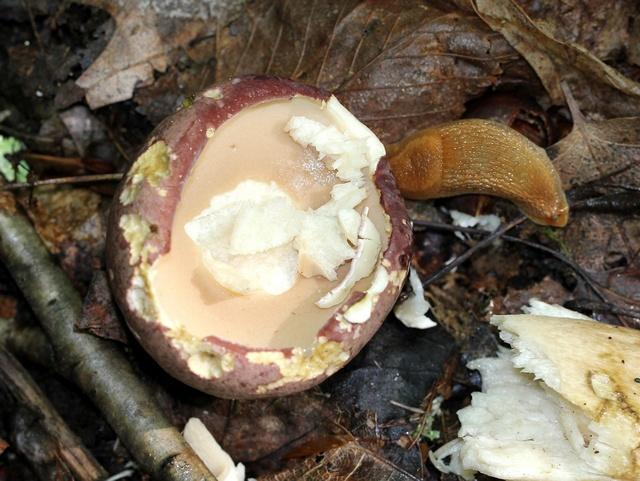Non-edible Mushroom: (83, 83, 409, 414), (441, 299, 640, 480)
